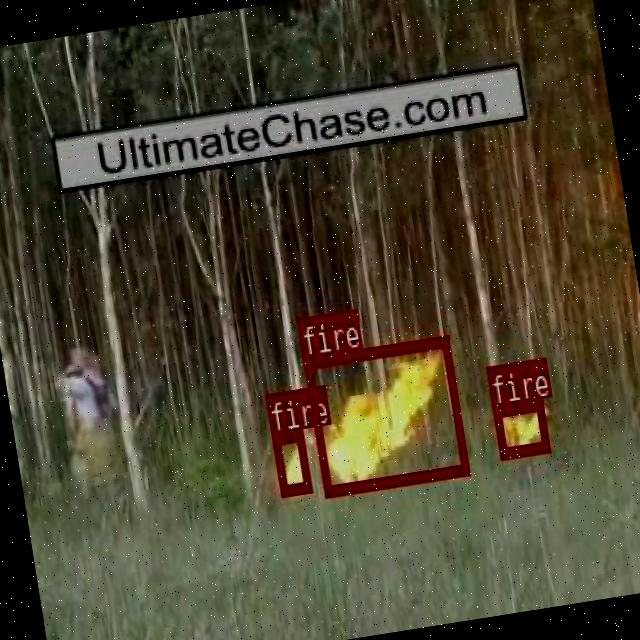fire: (302, 336, 468, 494), (492, 396, 550, 456), (270, 428, 310, 493)
